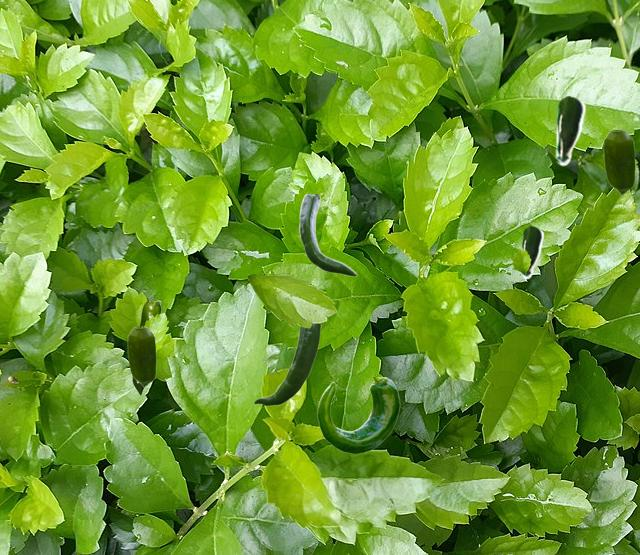green_chili: (317, 377, 399, 452), (253, 324, 321, 405), (299, 194, 356, 275), (132, 302, 160, 394), (553, 95, 585, 165), (603, 130, 634, 194), (127, 327, 155, 386), (519, 225, 543, 278)
